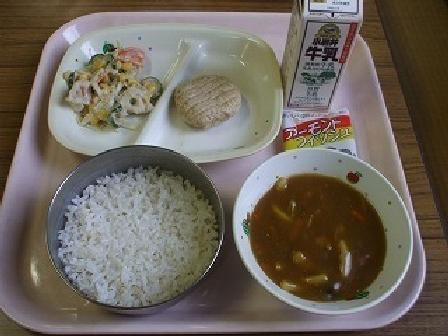Curry: (240, 159, 420, 303)
Meat: (172, 70, 246, 127)
Milk: (275, 0, 370, 109)
Rice: (38, 145, 218, 310)
Salad: (62, 41, 162, 123)
